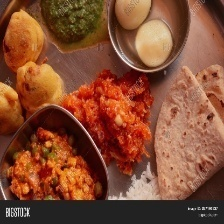roti: (153, 63, 224, 199)
